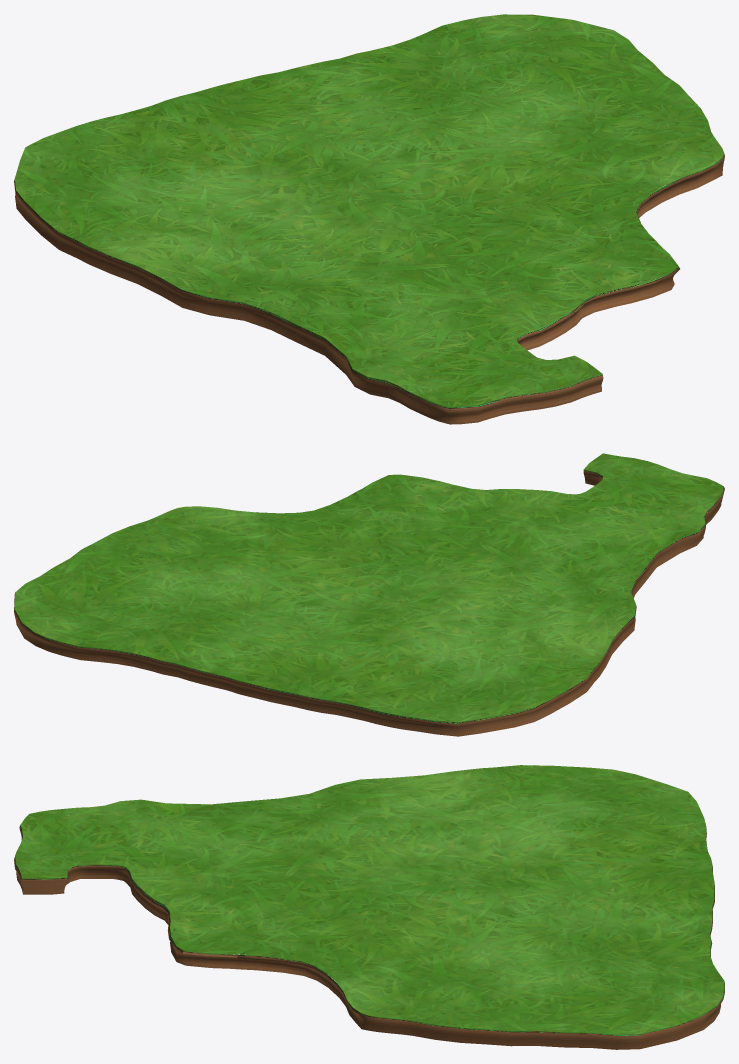
The model's file is lvl1_plat007.FBX.
3 renders of one model, top to bottom at view 1: azimuth 30°, elevation 25°; view 2: azimuth 150°, elevation 25°; view 3: azimuth 270°, elevation 25°, orthographic. The views are drawn at different scales.
Visible parts, largest first — view 1: lvl1_plat007_grass, lvl1_plat007; view 2: lvl1_plat007_grass, lvl1_plat007; view 3: lvl1_plat007_grass, lvl1_plat007.
Boxes of the visible parts, x1,y1,x2,y2 form: lvl1_plat007_grass: (14, 14, 723, 407); lvl1_plat007: (14, 153, 724, 424); lvl1_plat007_grass: (14, 453, 723, 721); lvl1_plat007: (14, 469, 724, 736); lvl1_plat007_grass: (15, 765, 724, 1034); lvl1_plat007: (14, 824, 724, 1049).
Bounding box in the file's own units: 6272 × 176 × 6973.
